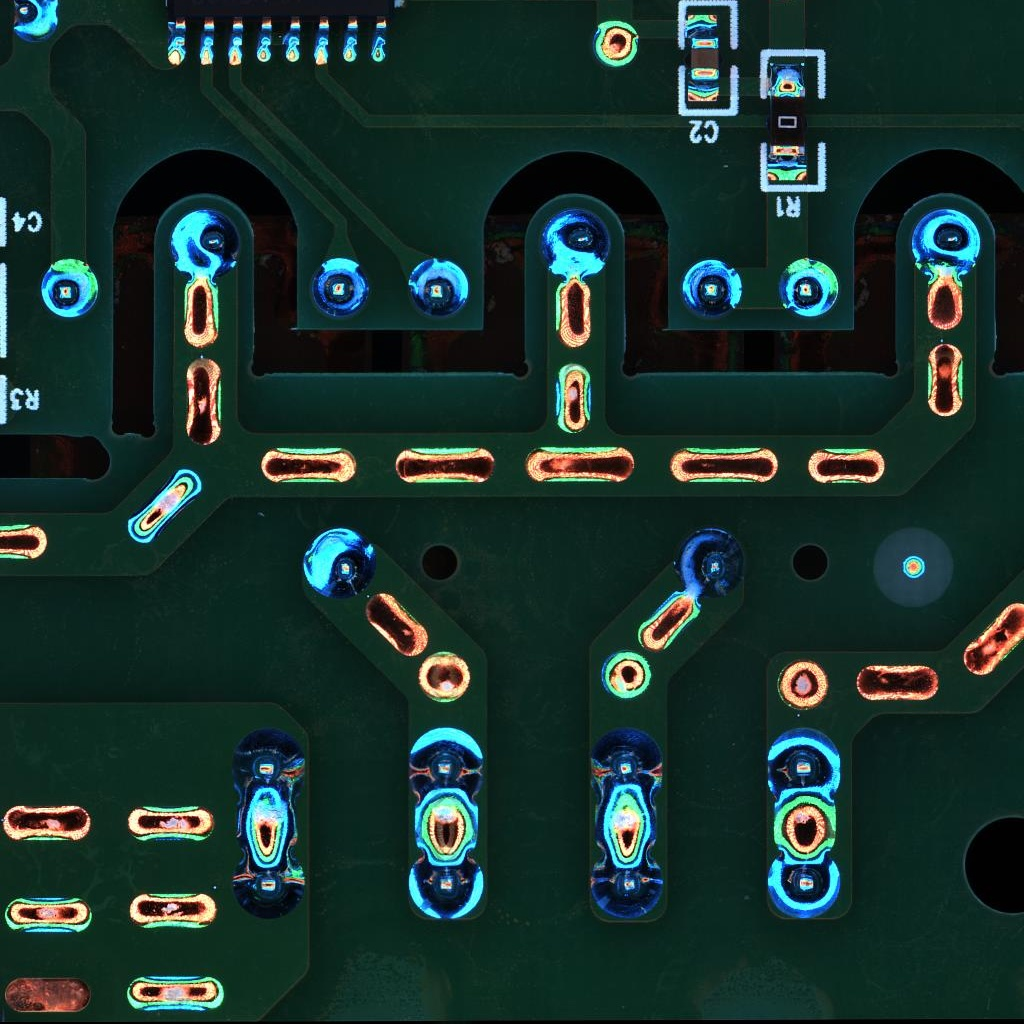spot: (300, 525, 380, 603), (406, 726, 485, 804), (764, 726, 841, 804), (407, 850, 487, 924), (675, 526, 751, 602), (588, 725, 665, 799), (586, 850, 666, 921), (538, 207, 613, 282), (230, 728, 308, 800), (227, 849, 308, 918), (166, 205, 241, 279), (764, 851, 843, 921), (910, 208, 982, 282), (775, 256, 841, 321), (407, 255, 471, 319), (679, 258, 744, 320), (37, 257, 99, 318), (306, 257, 369, 317)
